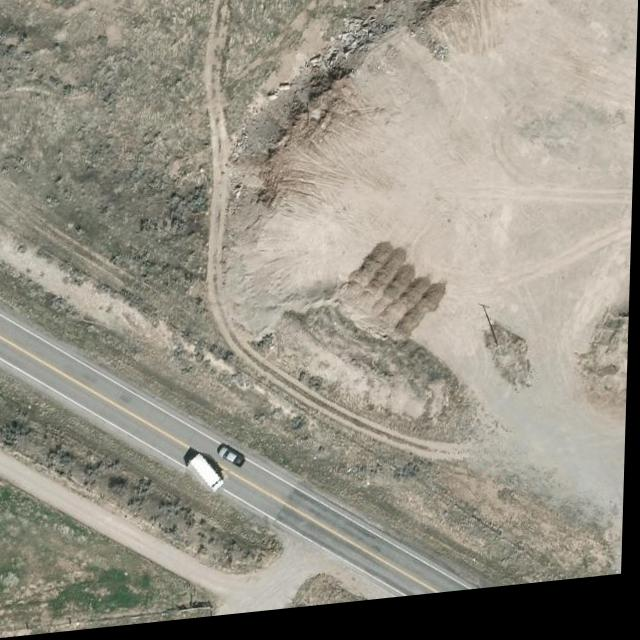vehicle: (186, 455, 235, 500), (219, 448, 250, 476)
